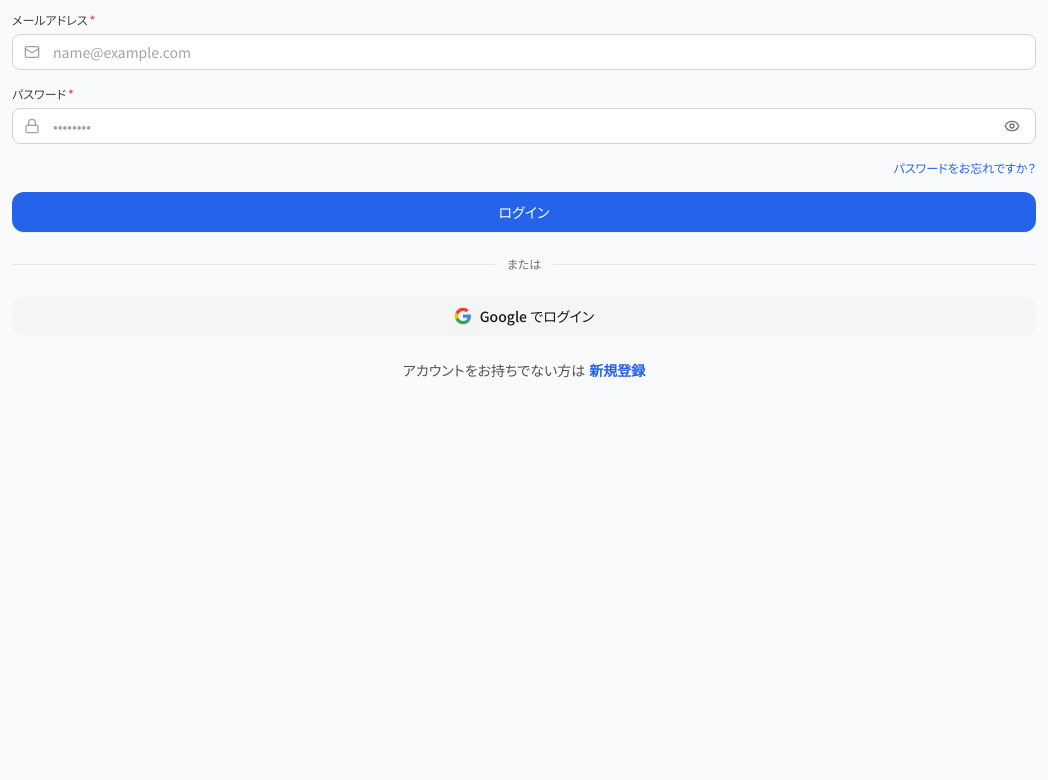
Test: LoginForm - 新規登録5項目化 › 「新規登録」に切り替えると5つの入力欄が全て存在する
The image size is (1048, 780).
What coordinates should you click on to do the following:
click the button "新規登録"
I would click on:
 (617, 370)
Its box is [589,360,645,380].
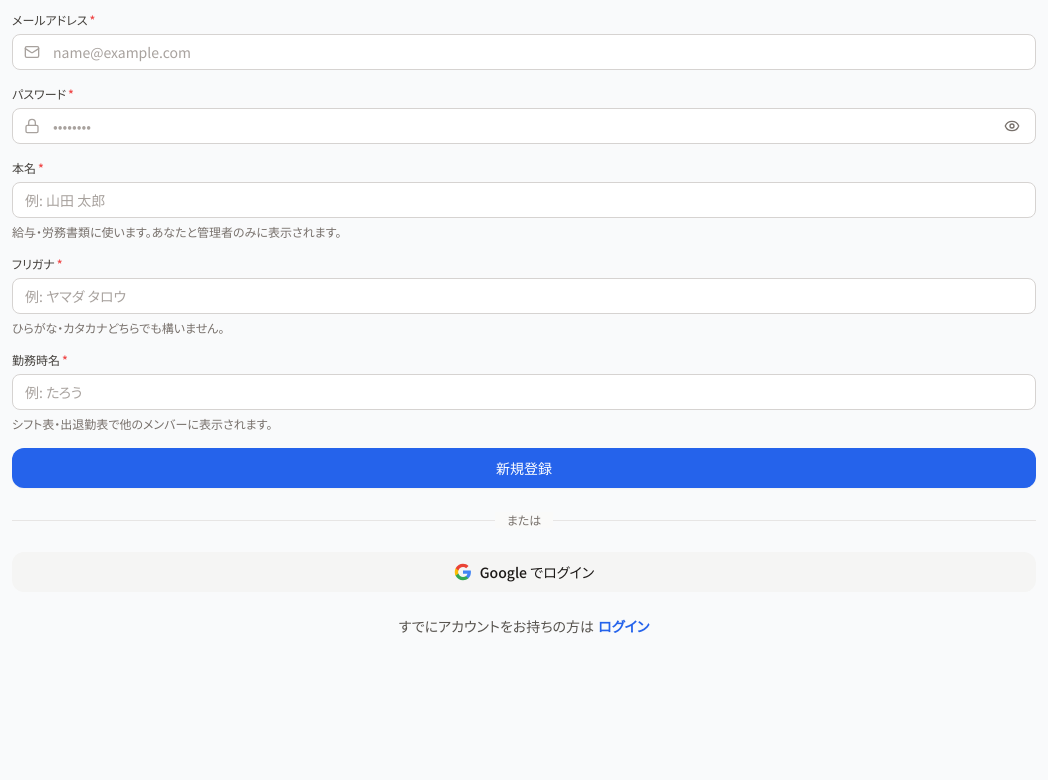
Now the field labelled "本名*" is shown, box [12,182,1036,218]
Now the field labelled "フリガナ*" is shown, box [12,278,1036,314]
Now the field labelled "勤務時名*" is shown, box [12,374,1036,410]
